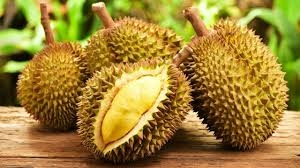kitchen_waste: (180, 3, 290, 154), (76, 51, 194, 163), (85, 1, 189, 128), (16, 3, 101, 131)
